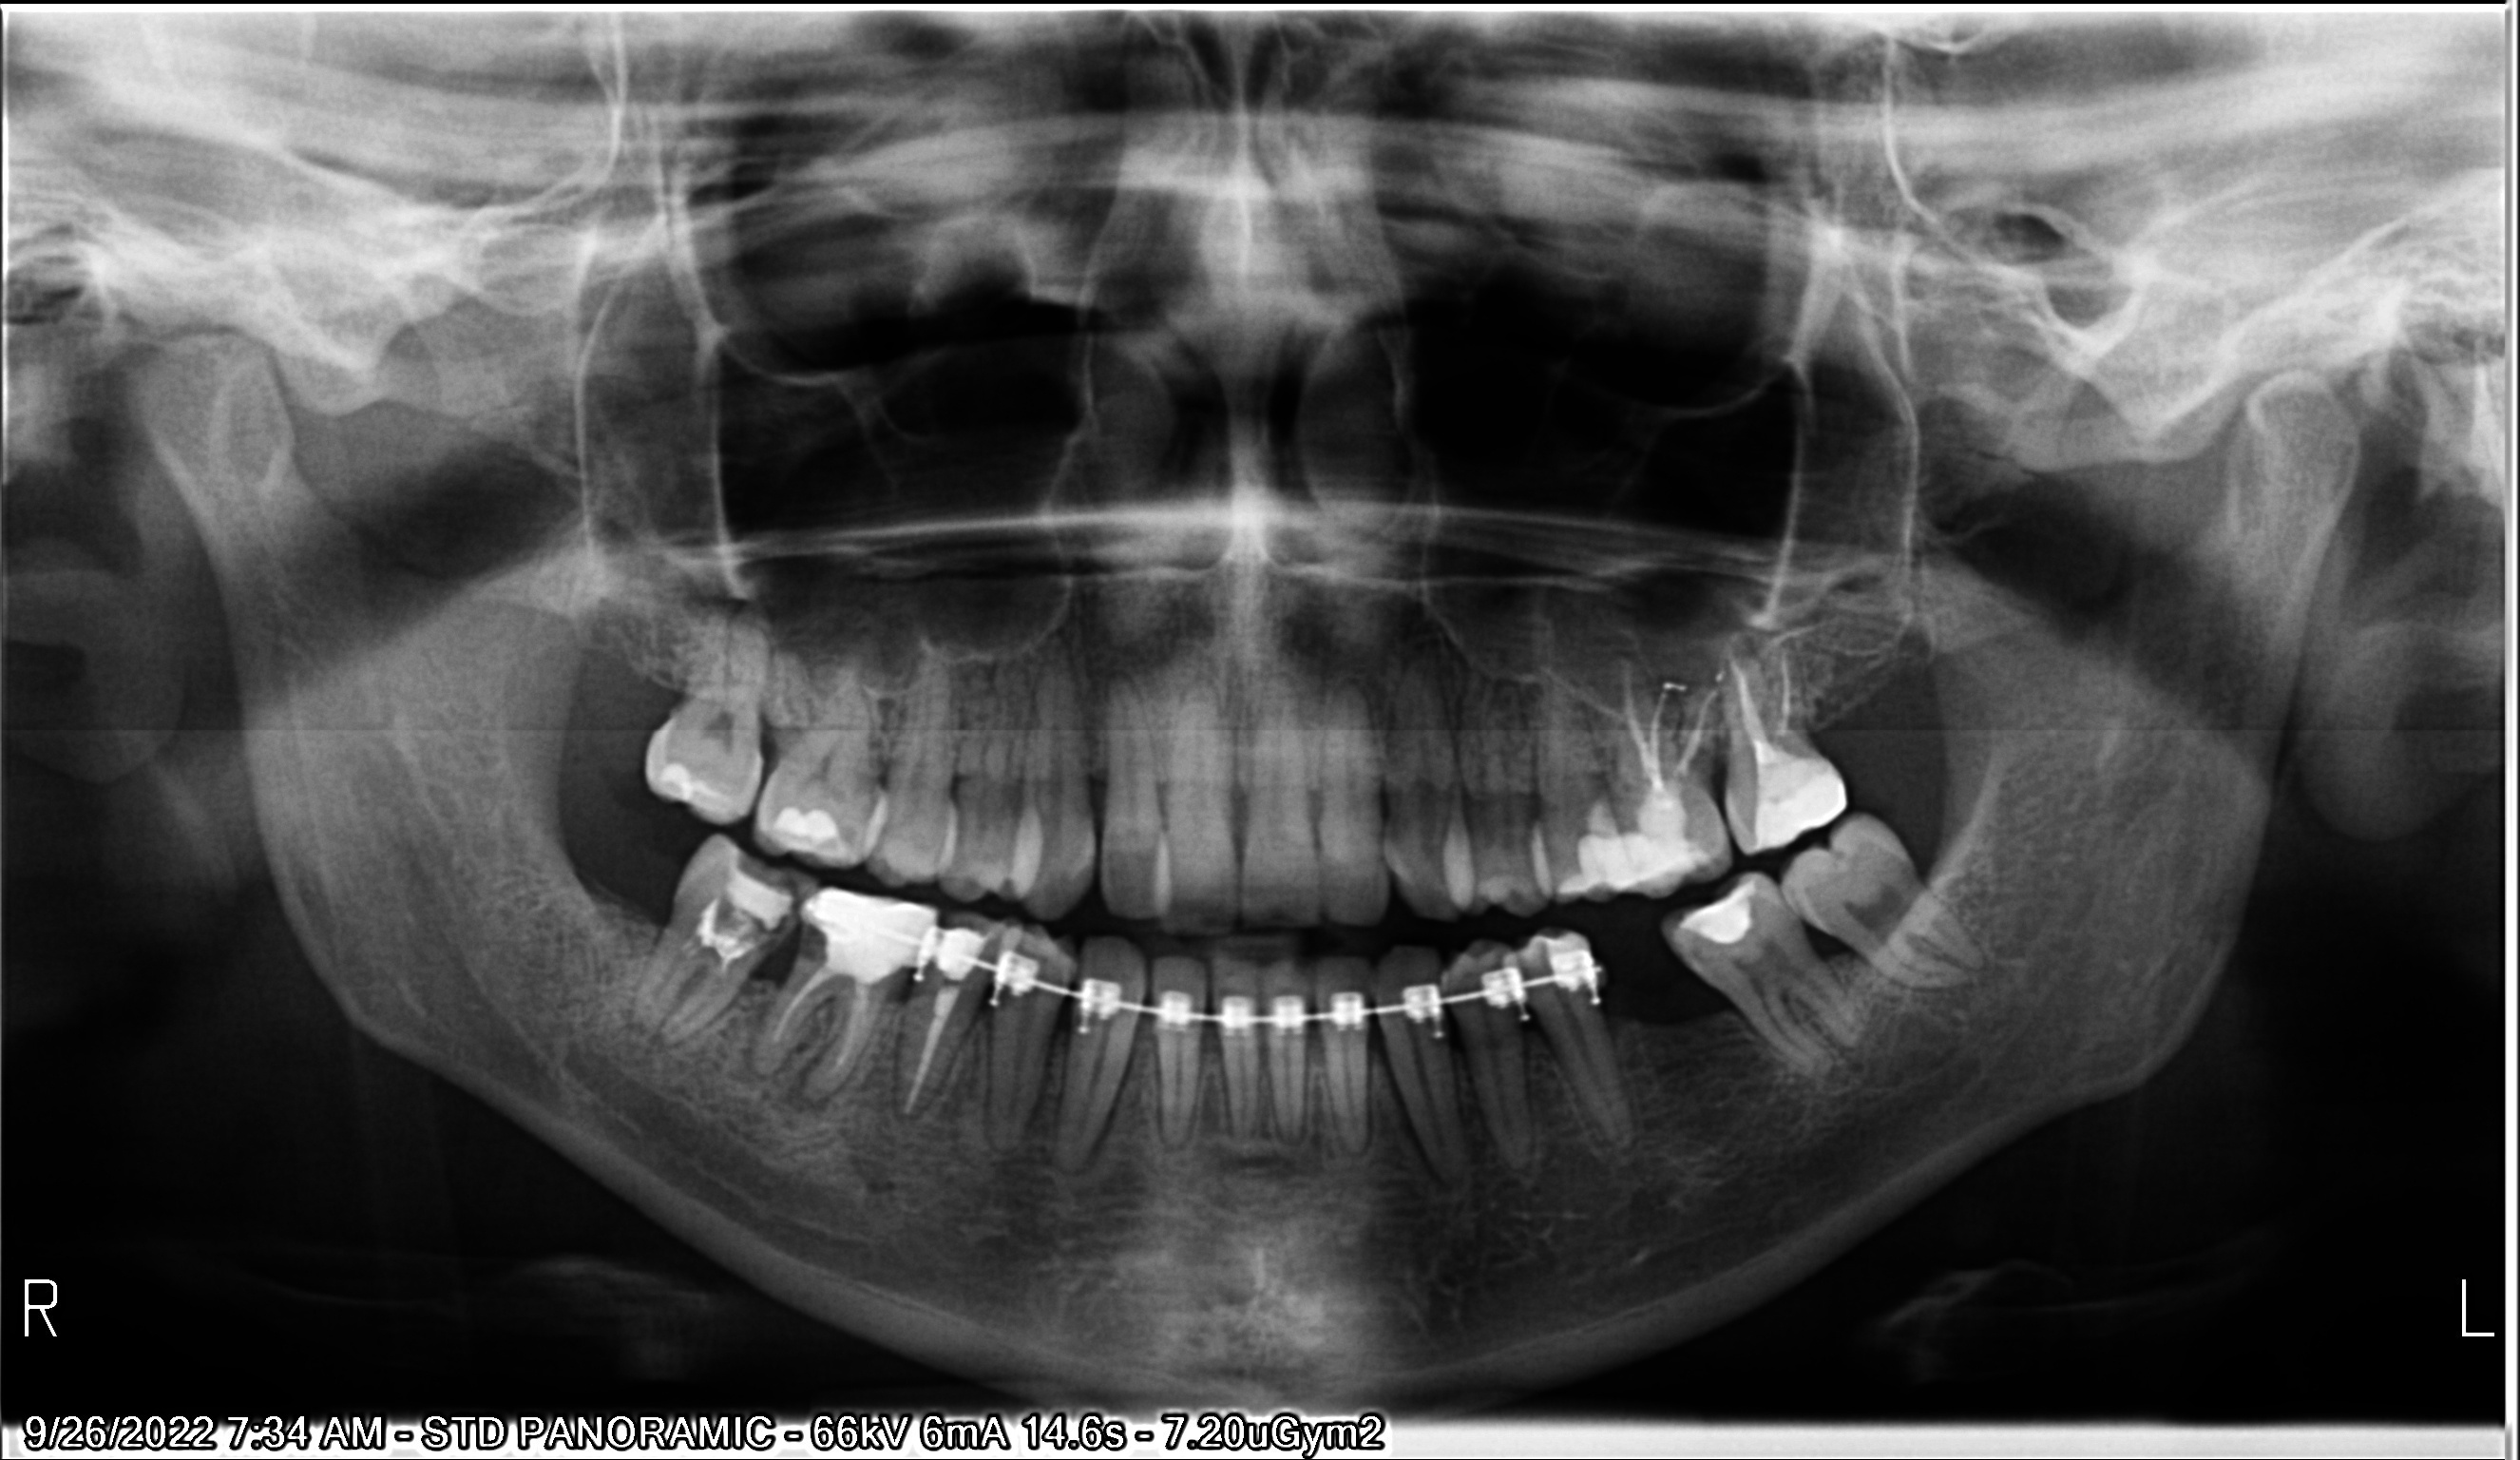API: (627, 989, 655, 1032)
CAR: (797, 921, 825, 959)
END: (1624, 660, 1718, 786)
FUR: (677, 965, 709, 1001)
OBT: (658, 761, 719, 801)
